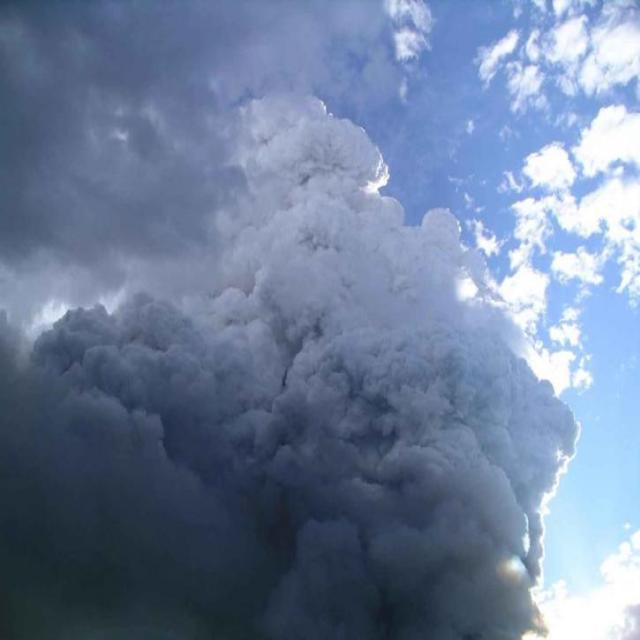Smoke: (16, 63, 553, 640)
